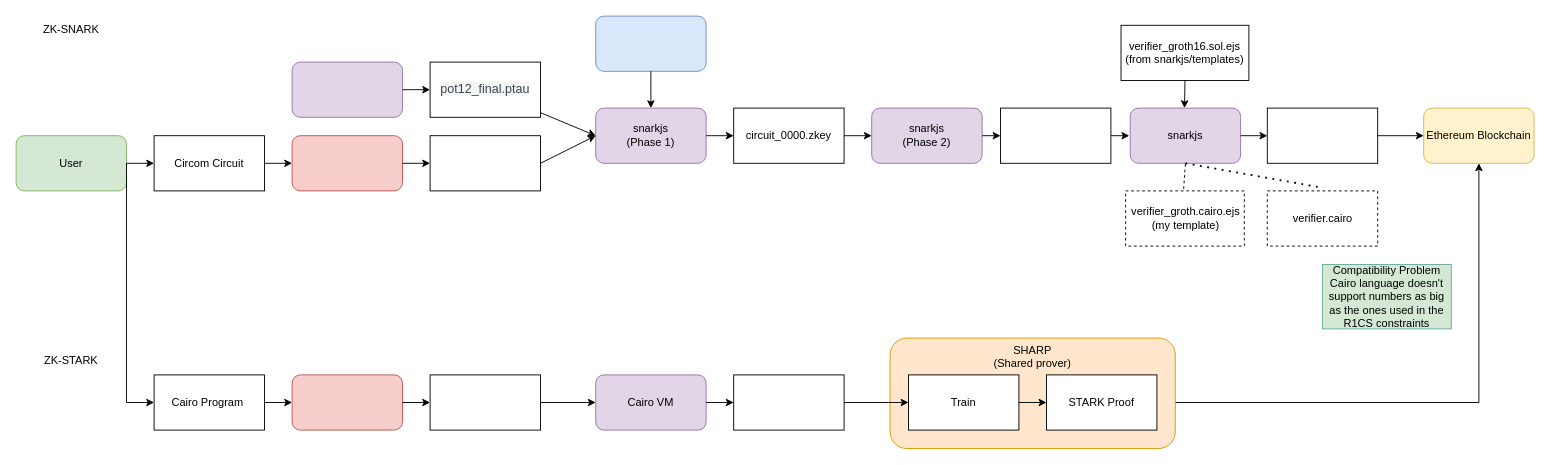
Some shapes in this 1550 by 465 pixel diagram are drawn without their labels. Here are the shapes that lost their labels. From the top down, the centre of each, then its label:
At point (650, 43): "groth16 (ZK-SNARK Protocol)".
At point (346, 89): "powers of tau ceremony (via snarkjs)".
At point (1055, 135): "circuit_0001.zkey".
At point (1322, 135): "verifier.sol".
At point (346, 163): "Circom".
At point (484, 163): "R1CS".
At point (346, 402): "Cairo Compiler".
At point (484, 402): "Cairo Bytecote".
At point (788, 402): "Trace".
